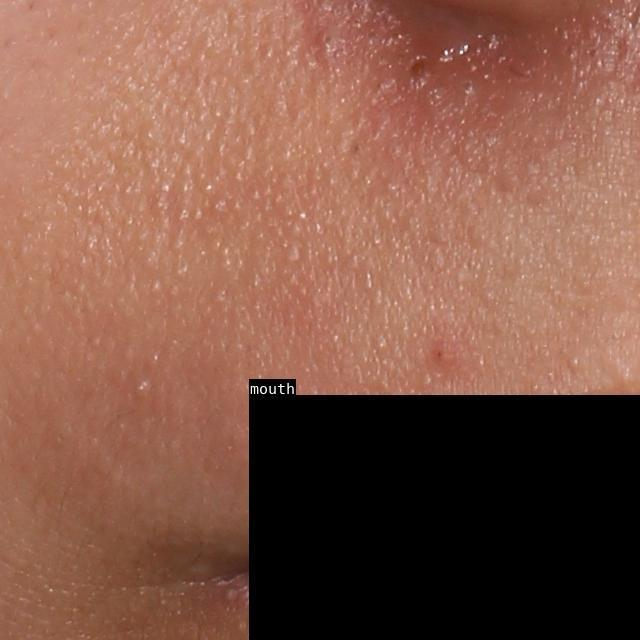comedo: (132, 374, 153, 397), (319, 31, 339, 53), (564, 352, 582, 373)
papule: (431, 341, 458, 369)
